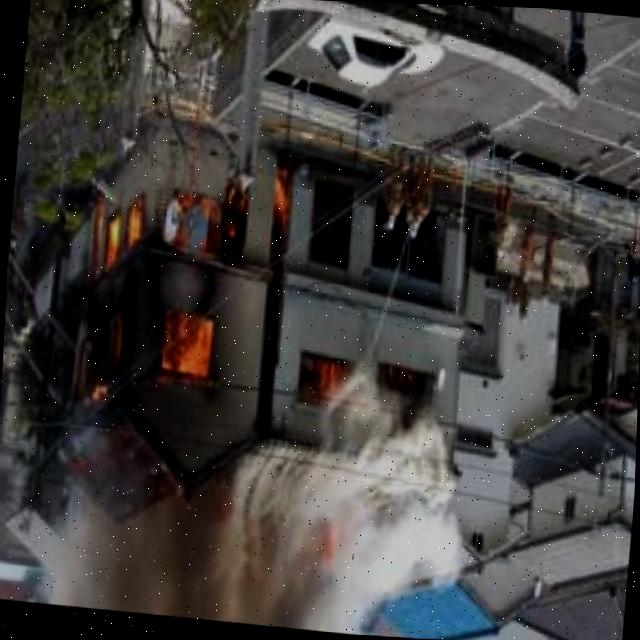fire: (34, 130, 298, 411), (301, 357, 449, 424)
